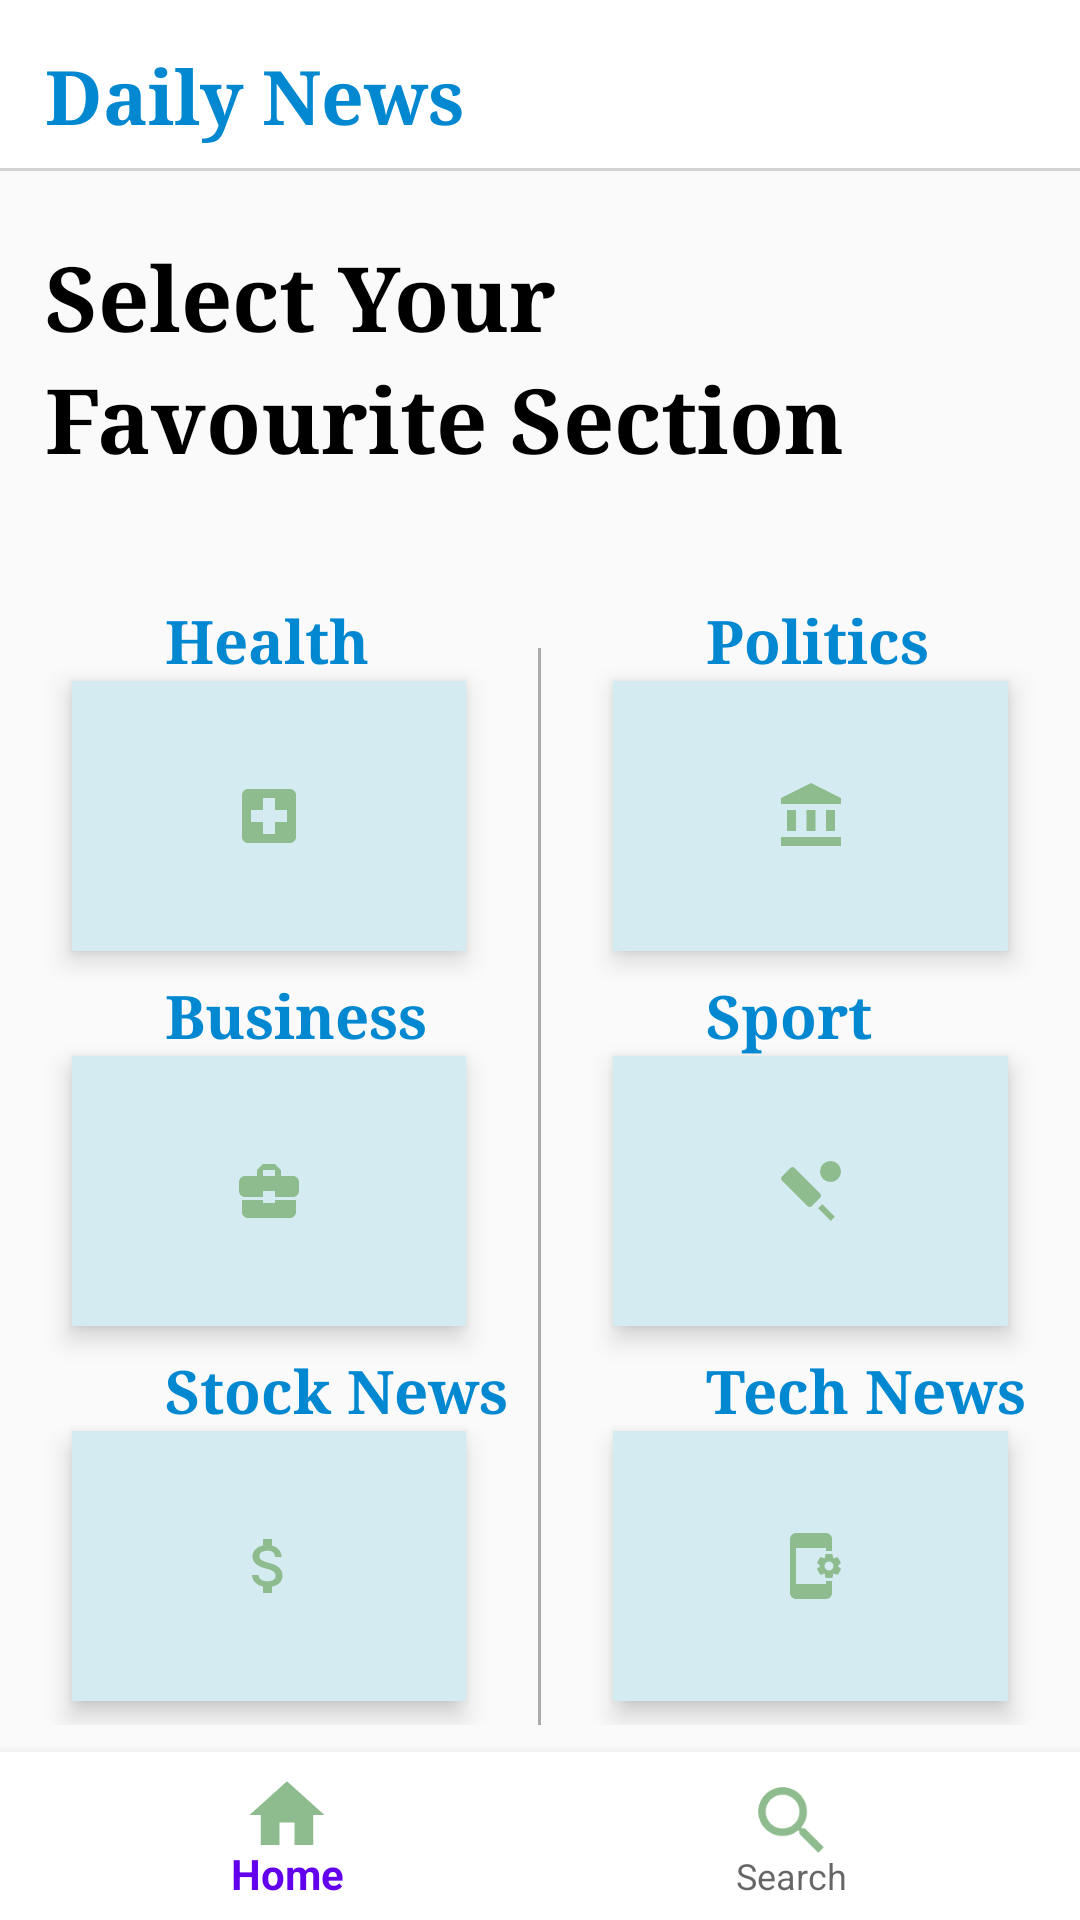

Screen size 1080 x 1920. Icon name, then its box in pixels as (x1, y1, x2, y2):
account balance: (781, 783, 841, 846)
local hospital: (242, 789, 296, 843)
